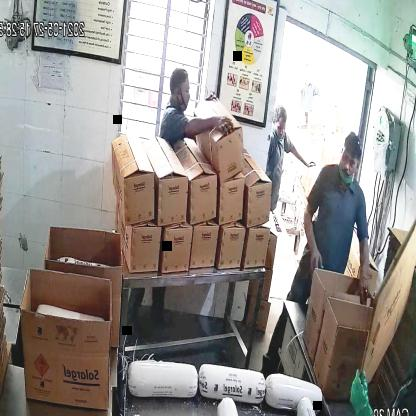no_goggles: (338, 150, 362, 172)
